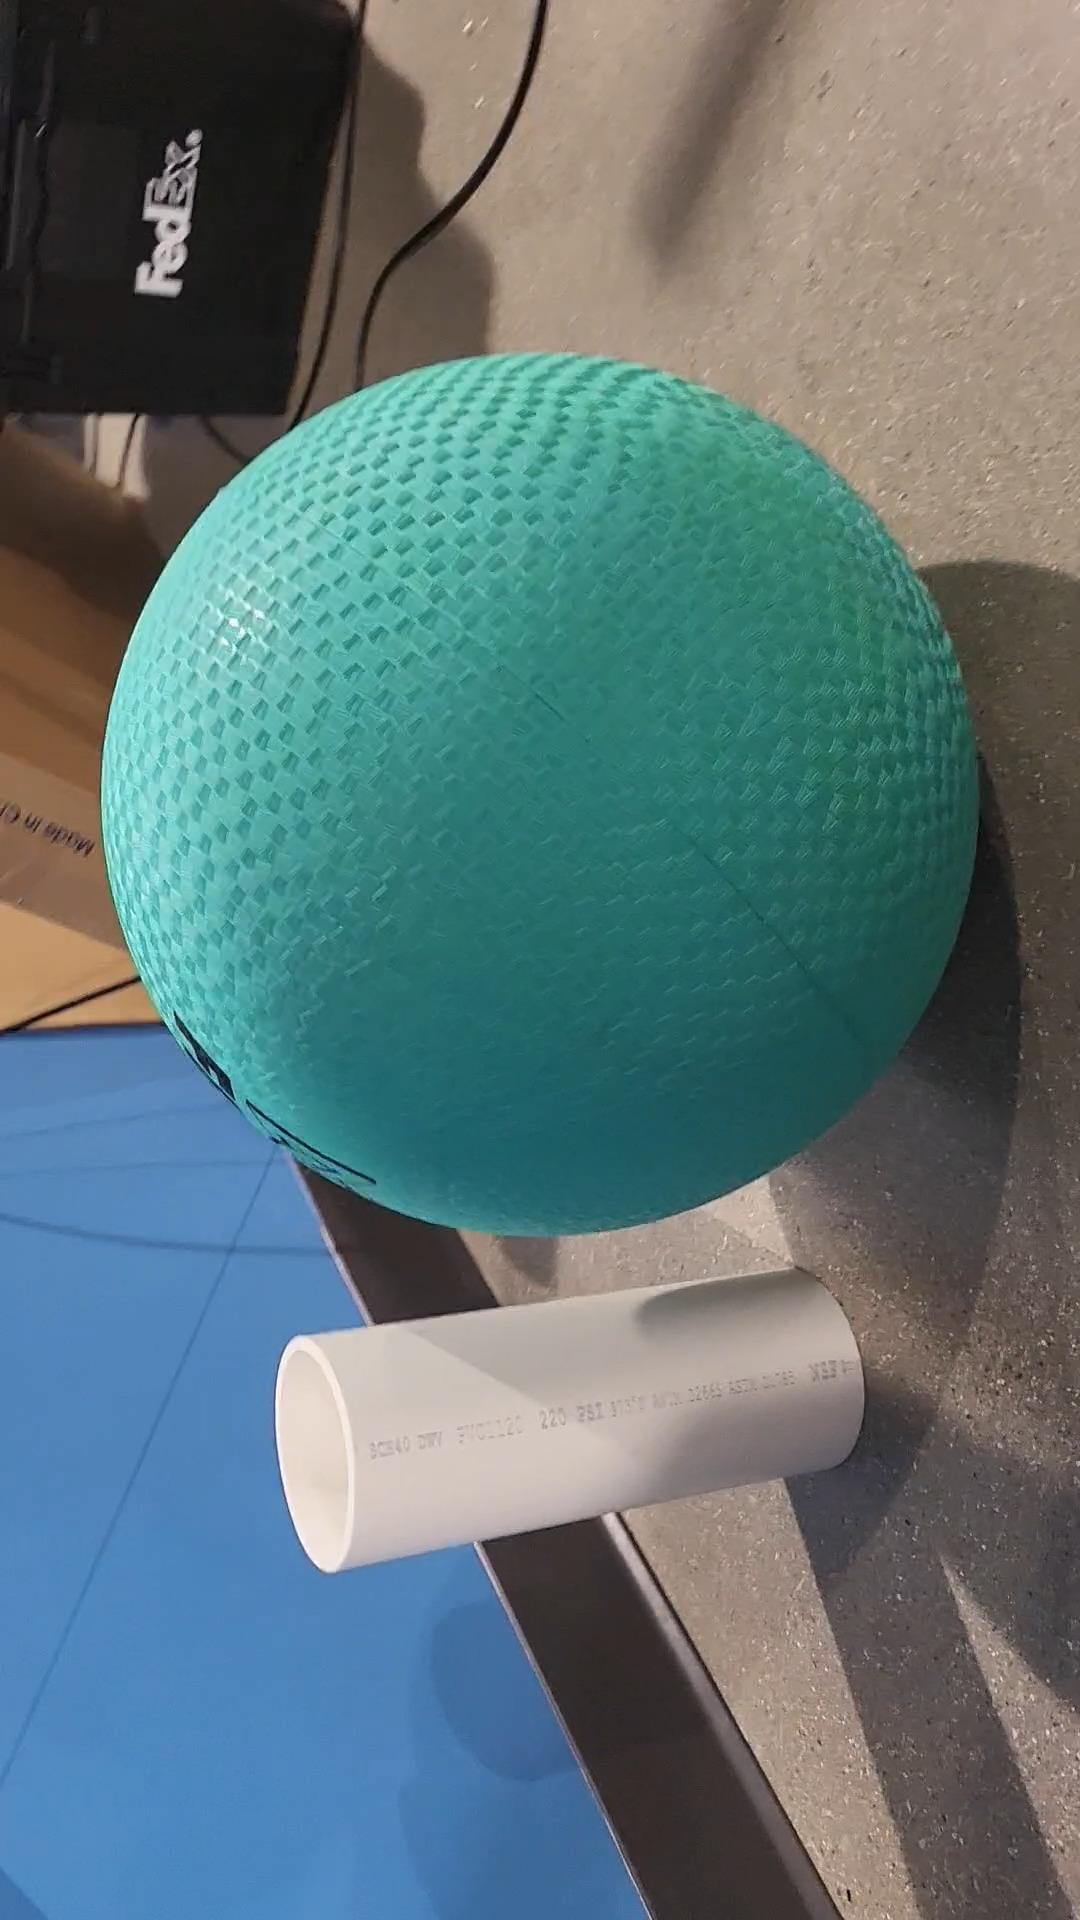algae: (100, 348, 982, 1240)
coral: (277, 1262, 862, 1572)
